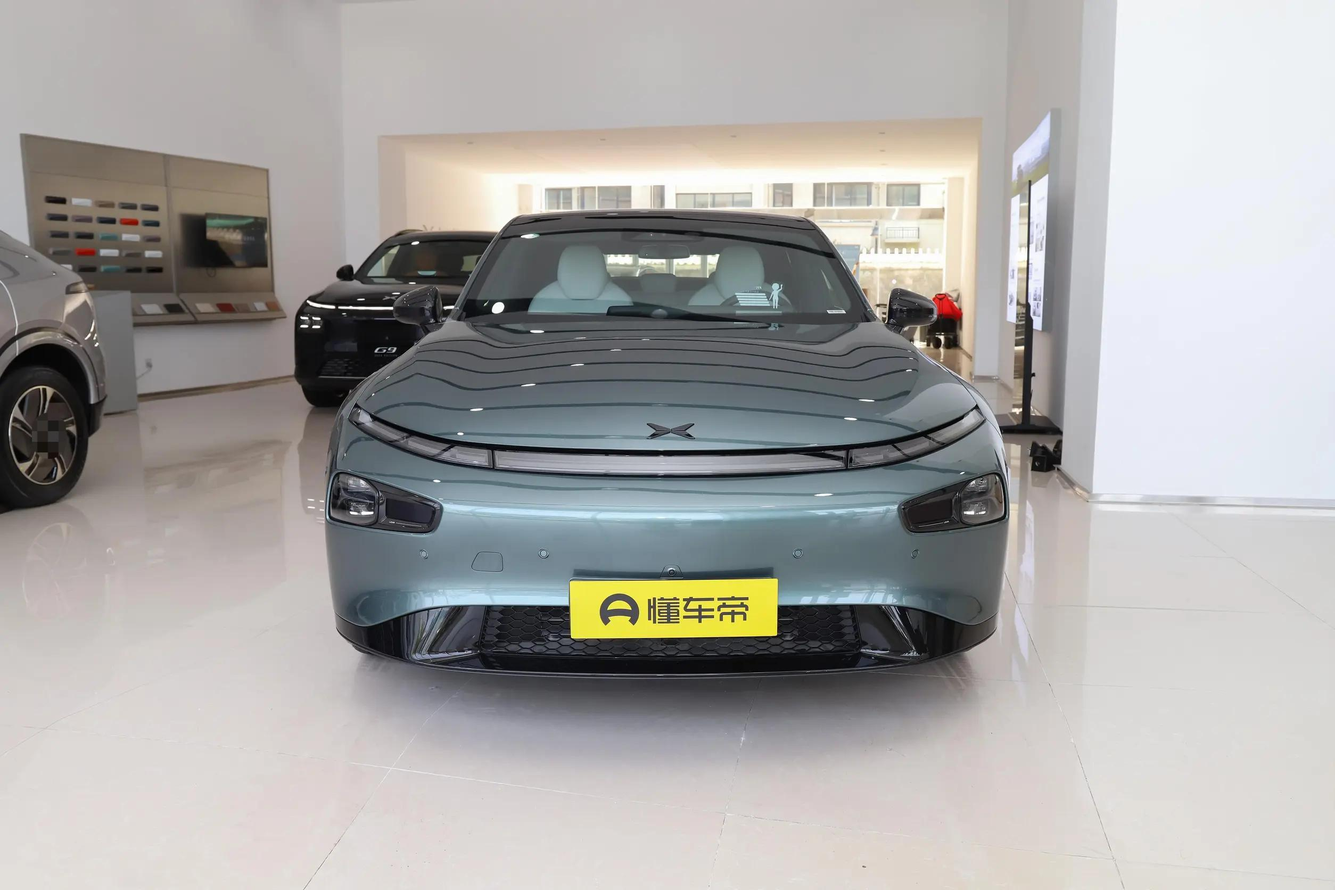XPeng Motors: (647, 423, 696, 439), (382, 295, 398, 300)
